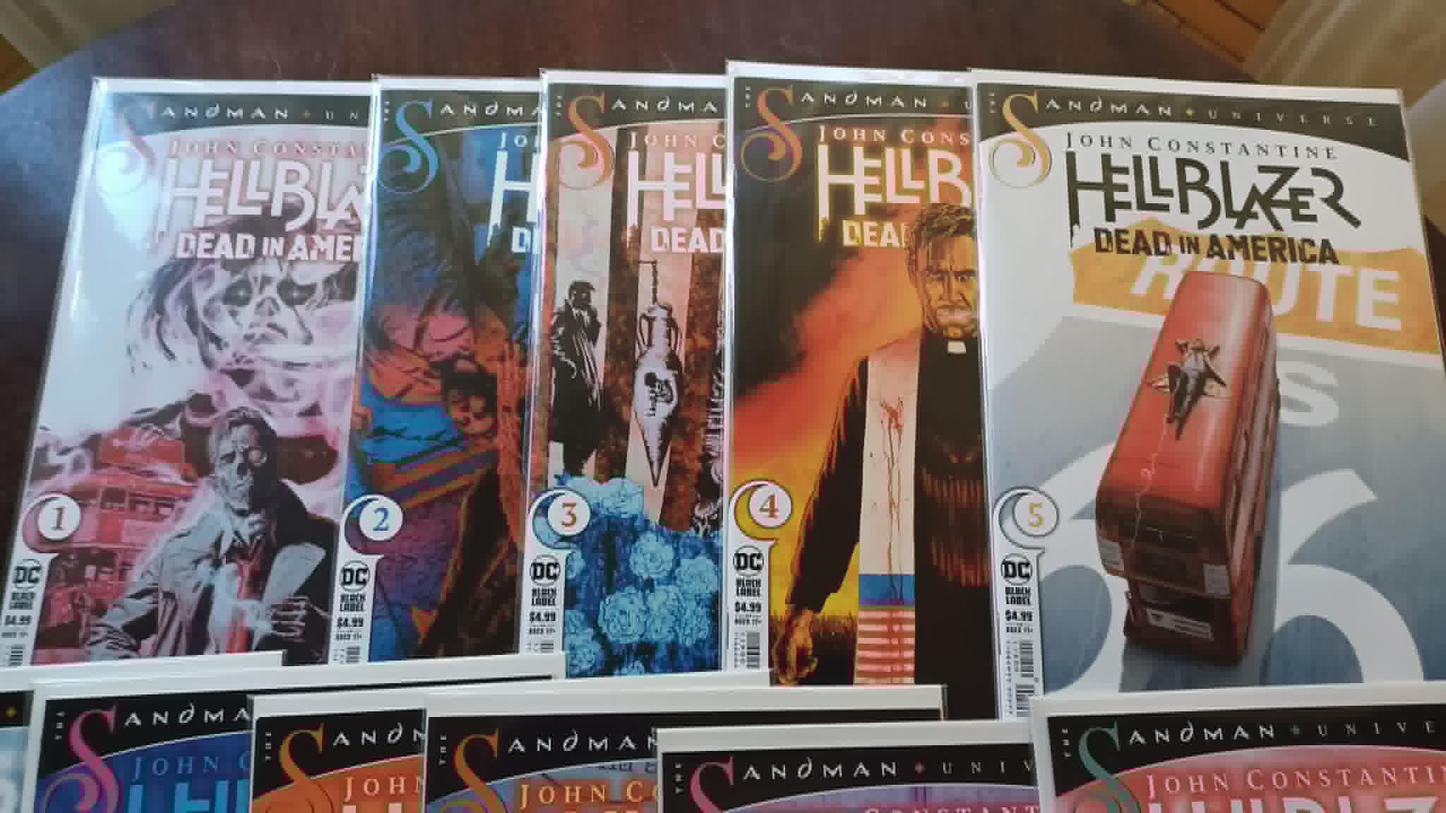comic: (974, 59, 1446, 714), (0, 40, 417, 717), (516, 69, 744, 683)
